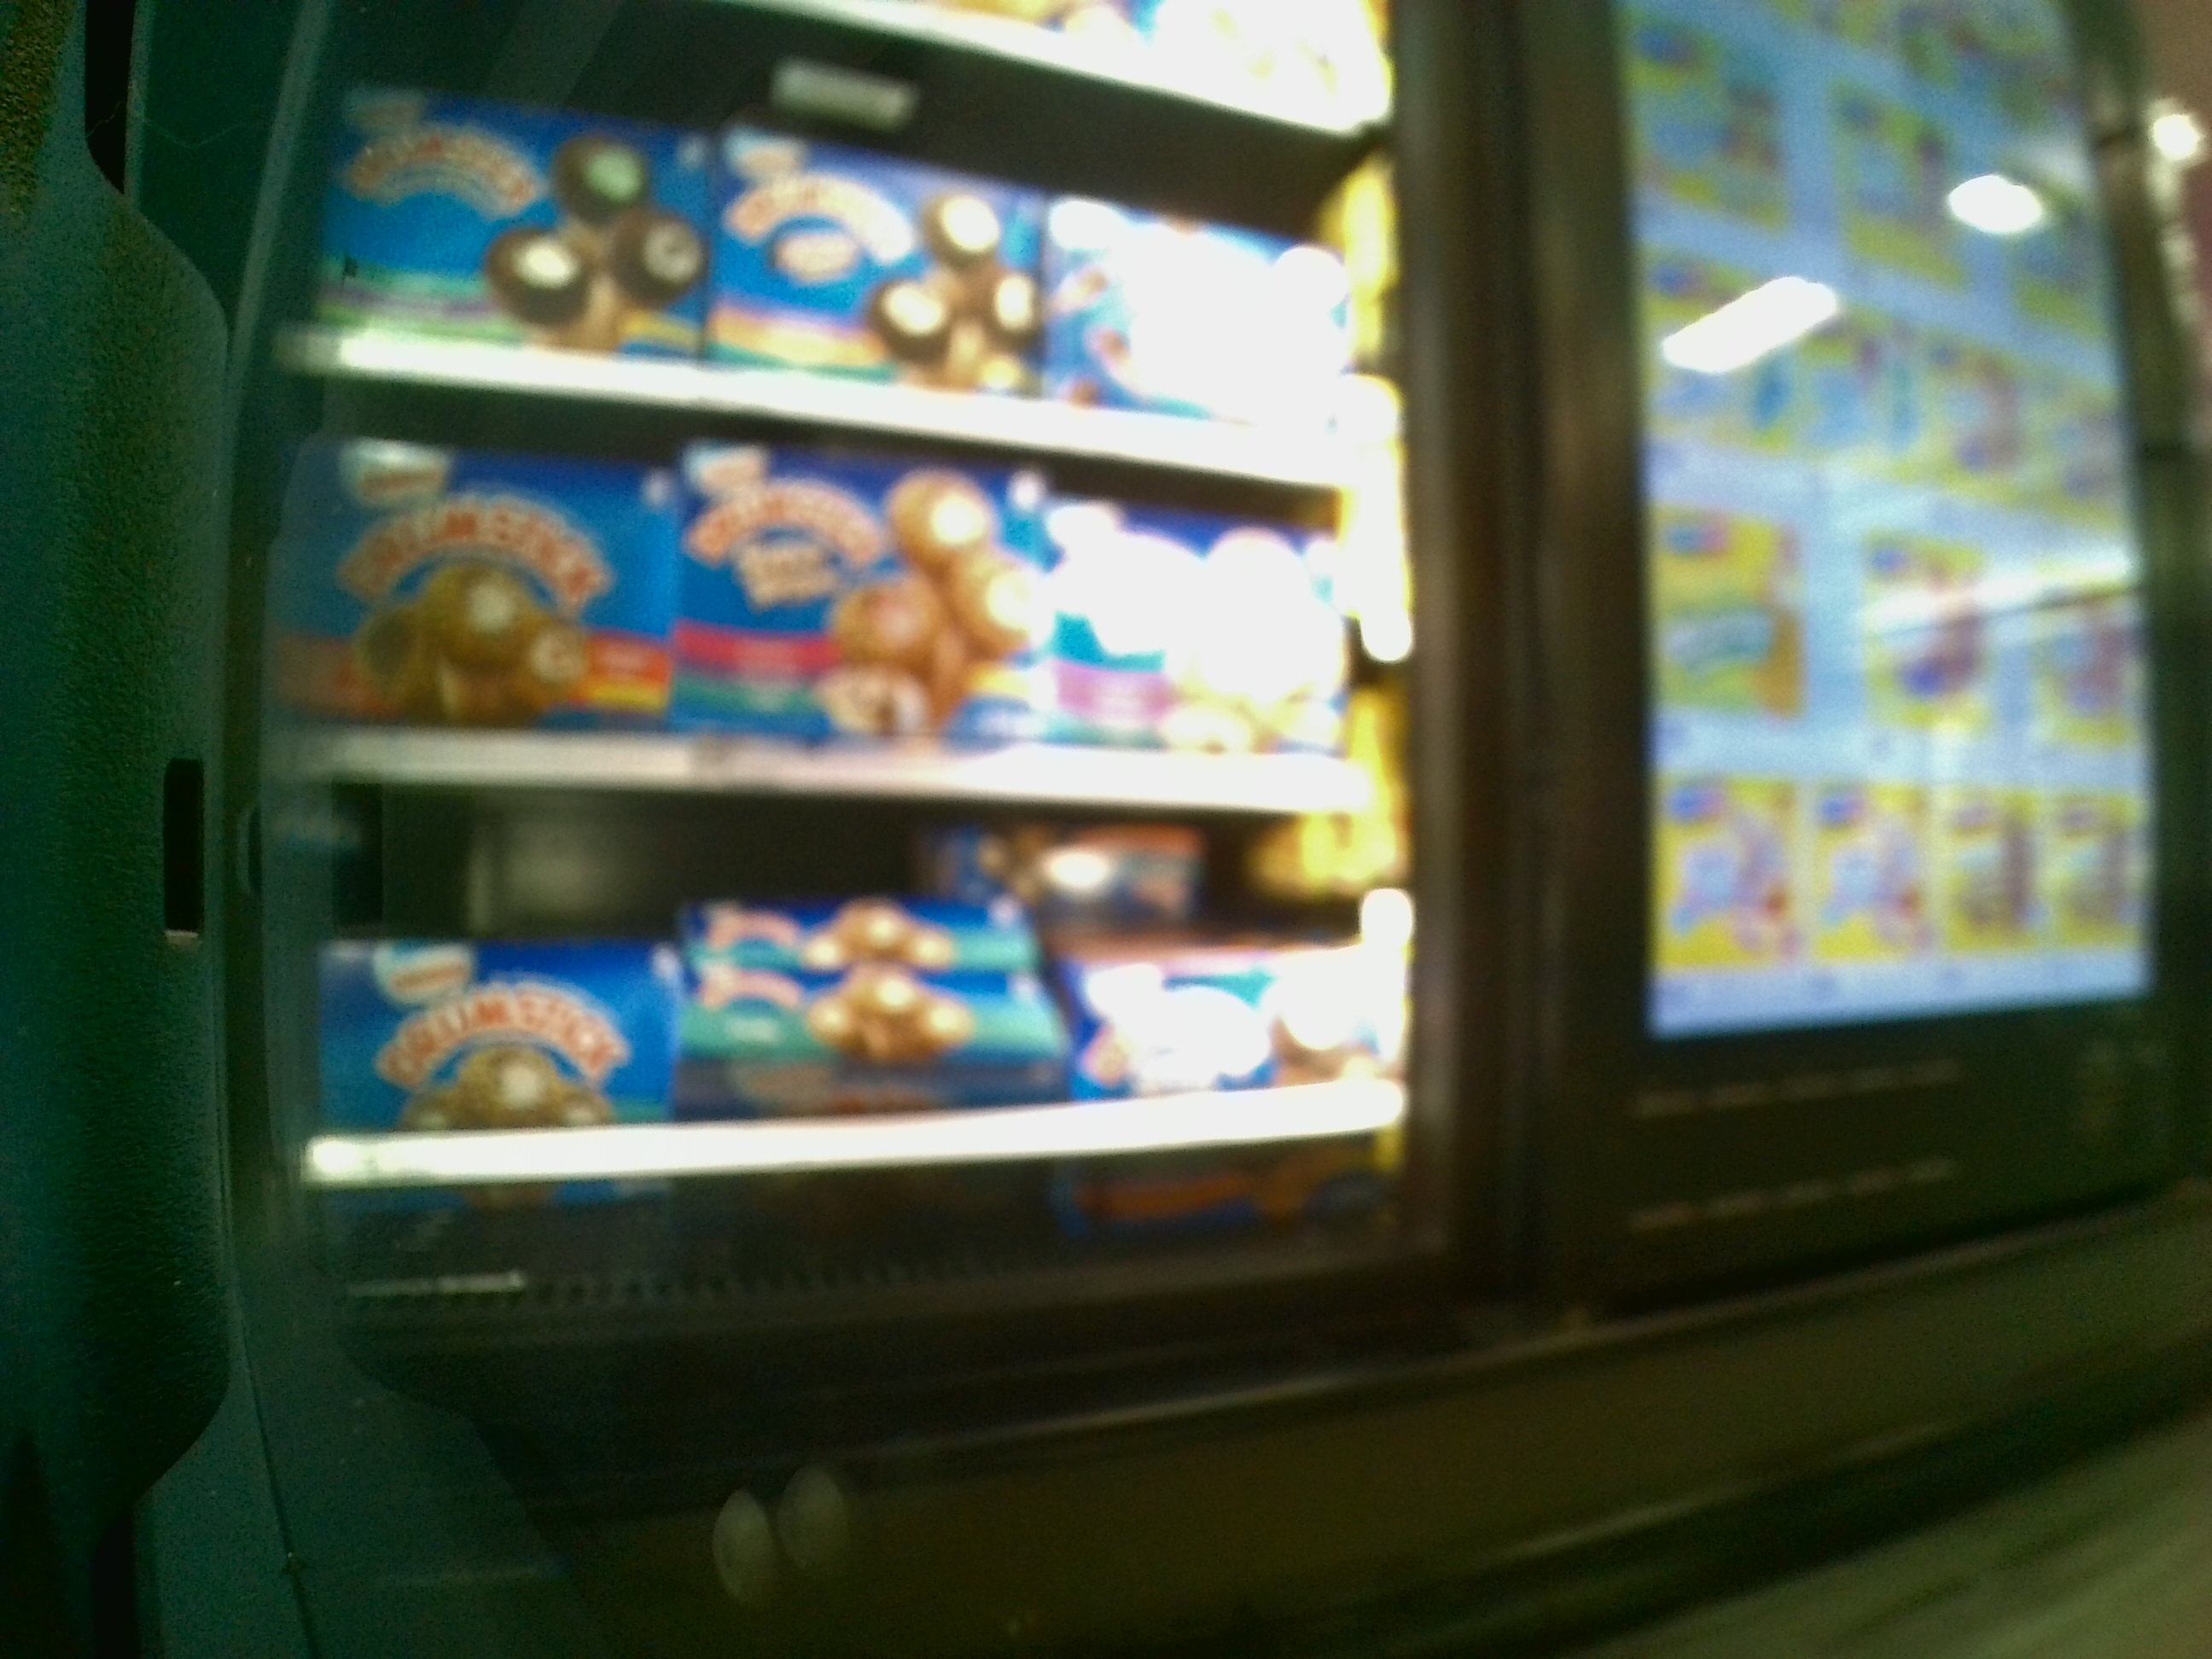shelf: (286, 784, 1407, 1243), (268, 427, 1409, 775)
